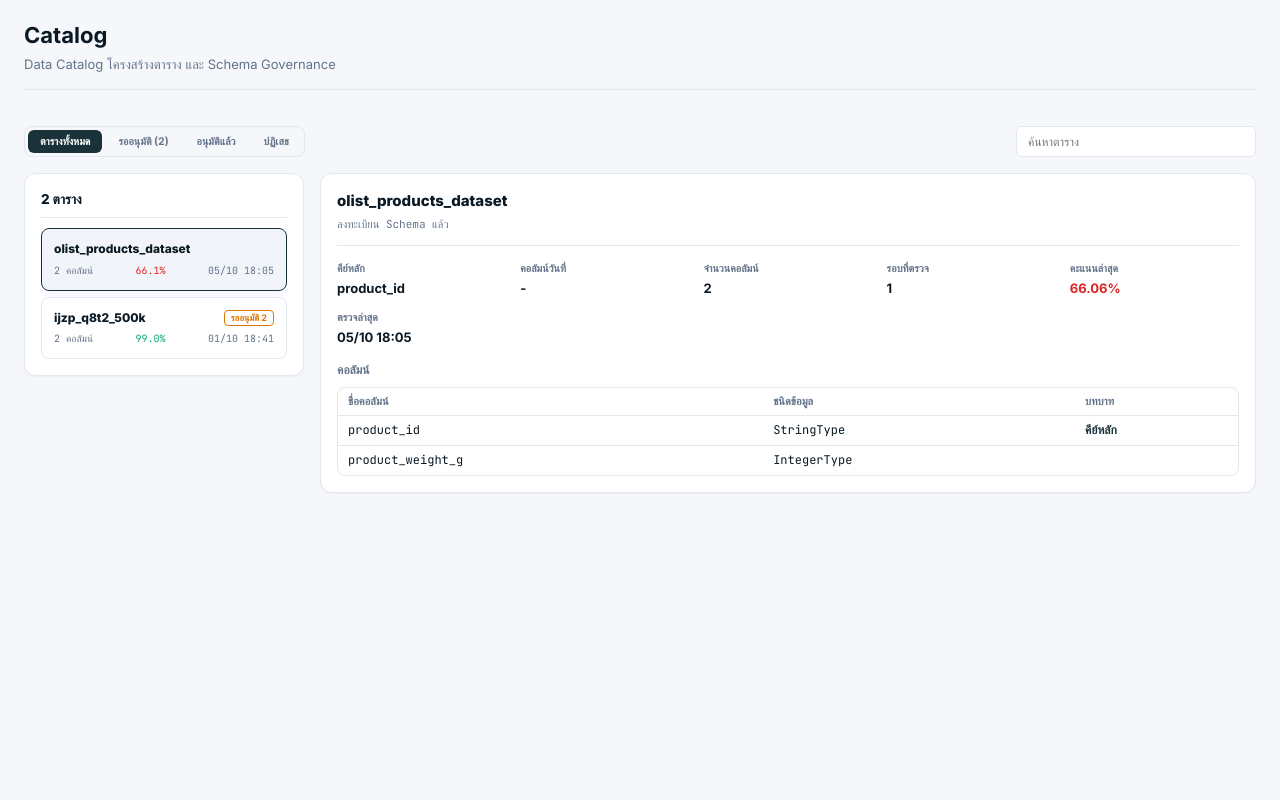
Test: does not promise to quarantine data when a proposal is rejected
Click the button "รออนุมัติ (2)": (144, 142) top-left (106, 130), bottom-right (181, 153)
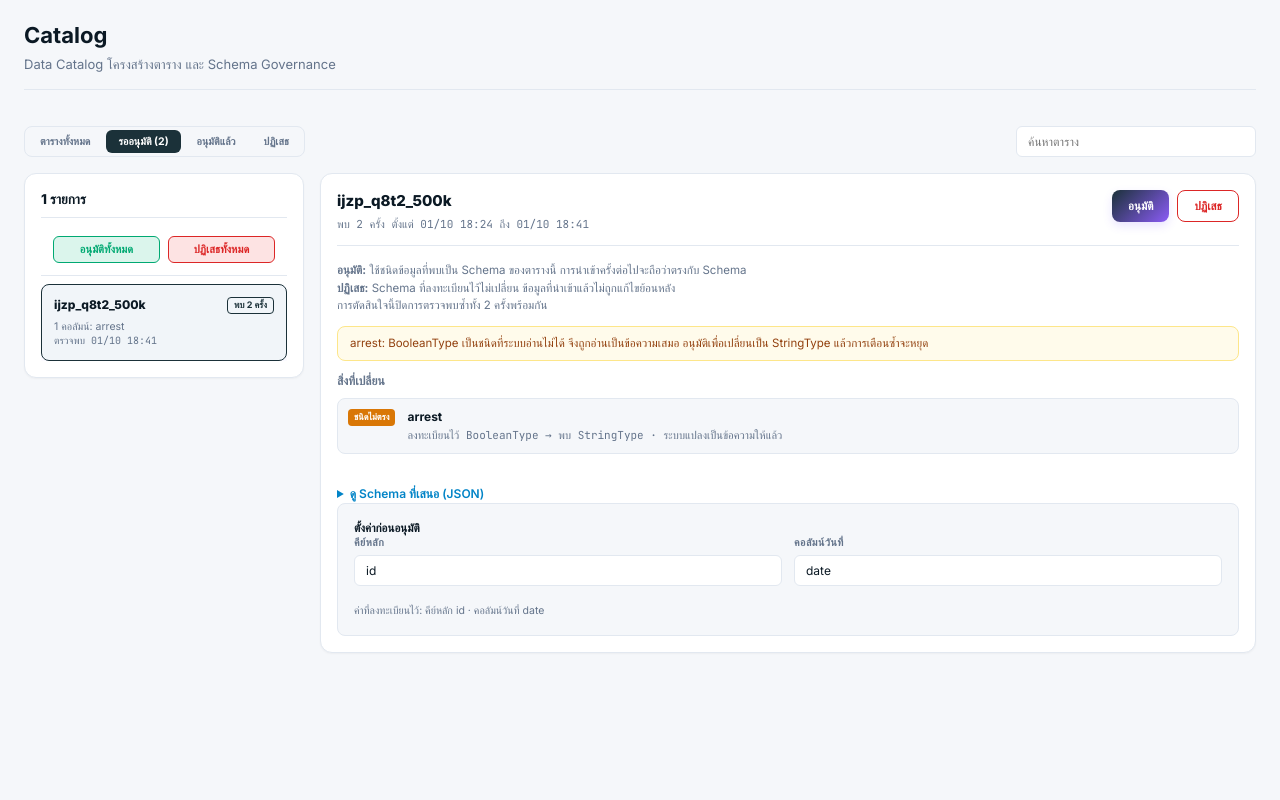
Click the button with class "gs-btn-reject": (1208, 206) top-left (1177, 190), bottom-right (1239, 222)
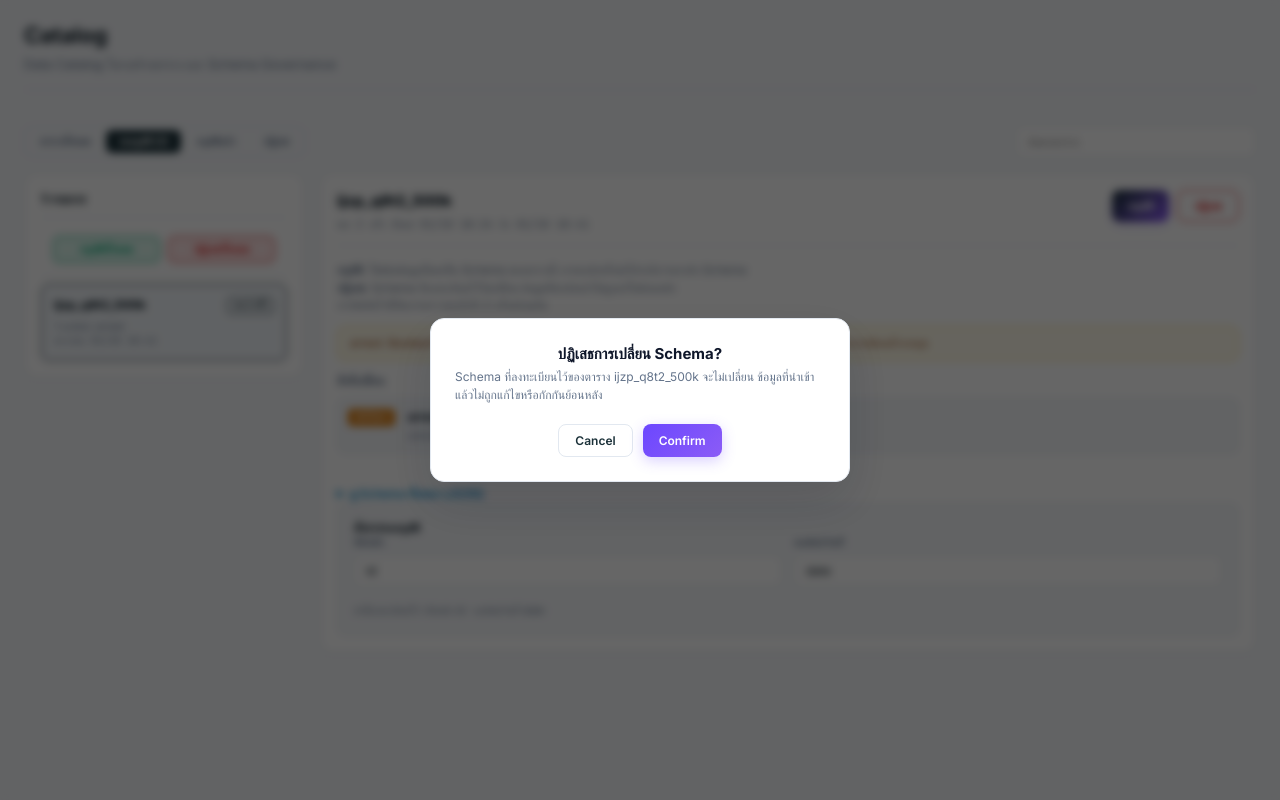
Check: the text "ไม่ถูกแก้ไขหรือกักกันย้อนหลัง" is shown, box top-left (455, 369), bottom-right (814, 402)
